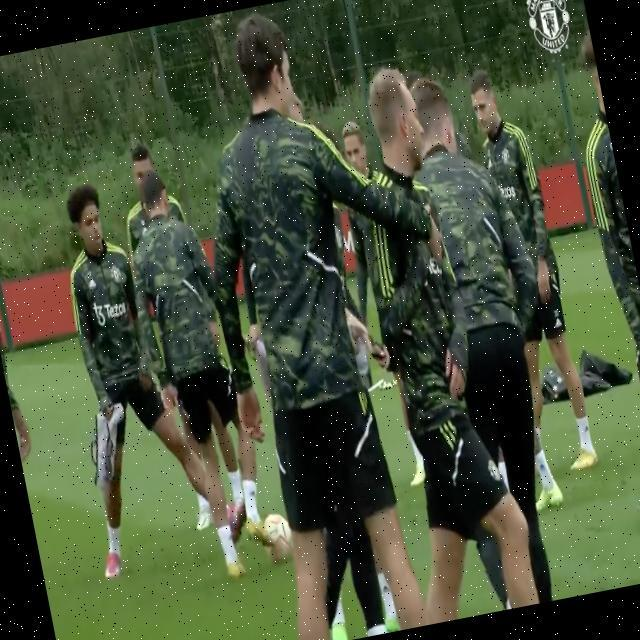Adidas: (87, 275, 99, 289), (553, 316, 564, 329)
